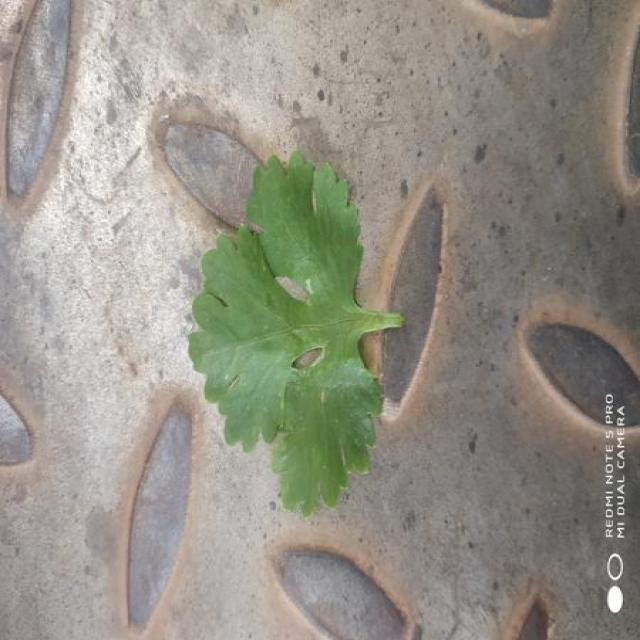coriender: (188, 154, 402, 514)
